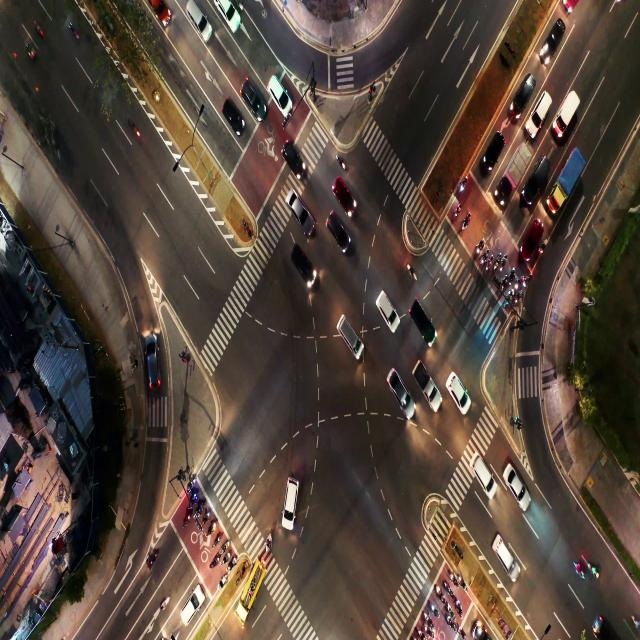bus: (248, 576, 255, 600)
car: (386, 372, 410, 418), (340, 316, 366, 358), (143, 334, 161, 389), (507, 466, 529, 510), (472, 454, 496, 494), (494, 534, 517, 574), (379, 291, 400, 334), (448, 374, 469, 414), (220, 95, 242, 133), (412, 302, 434, 340), (325, 214, 351, 246), (189, 1, 210, 37), (268, 78, 291, 110), (243, 81, 264, 114), (287, 138, 304, 174), (530, 159, 547, 194), (292, 190, 306, 229), (188, 584, 200, 627), (335, 181, 352, 211), (523, 222, 540, 252), (287, 478, 297, 528), (295, 252, 313, 278), (518, 78, 532, 104), (486, 142, 496, 168), (548, 27, 560, 48)
motorcycle: (407, 263, 418, 280), (574, 563, 585, 580), (130, 118, 139, 136), (458, 574, 466, 590), (463, 210, 470, 228), (444, 580, 452, 594), (220, 575, 227, 590), (337, 156, 345, 168), (426, 626, 434, 638), (590, 564, 598, 576), (267, 536, 273, 551), (477, 238, 483, 252), (456, 598, 462, 612), (437, 585, 443, 599), (446, 602, 453, 614), (424, 610, 431, 622), (448, 619, 456, 629), (416, 628, 424, 638), (215, 534, 221, 546), (455, 204, 460, 218), (185, 513, 191, 524), (502, 275, 506, 291), (161, 600, 167, 610), (204, 512, 209, 524), (208, 523, 214, 533), (462, 177, 466, 192), (516, 291, 521, 303), (431, 604, 437, 614), (510, 269, 514, 283), (526, 274, 530, 288), (516, 274, 520, 288), (150, 554, 155, 565), (483, 251, 488, 262), (461, 627, 466, 638), (227, 561, 233, 570), (502, 256, 506, 269), (188, 480, 194, 488), (220, 544, 226, 552), (541, 242, 545, 254), (508, 291, 512, 303), (487, 259, 492, 268), (450, 574, 455, 583), (496, 257, 500, 268), (191, 493, 196, 501), (222, 553, 226, 563), (198, 504, 202, 513), (212, 559, 216, 568)
truck: (416, 365, 436, 405), (509, 149, 523, 184), (565, 167, 575, 196), (565, 97, 576, 119)
